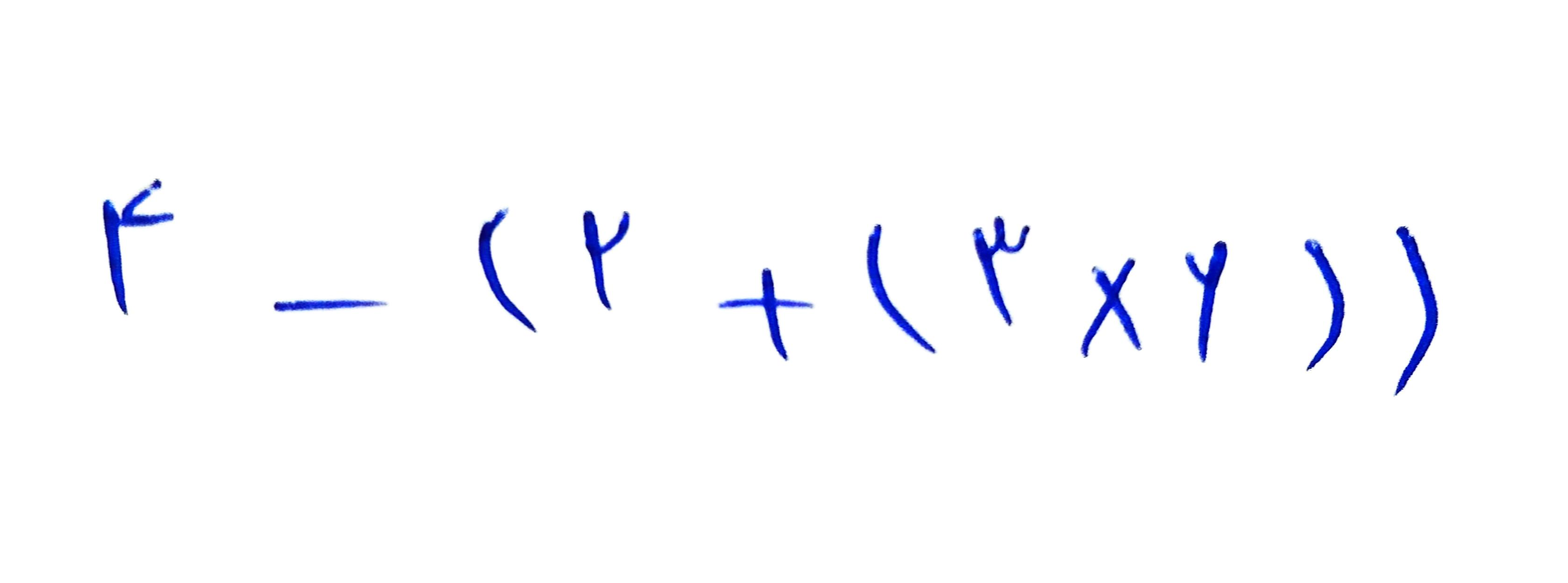character: (103, 177, 175, 317), (865, 222, 937, 358), (719, 266, 816, 362), (1395, 221, 1442, 397), (476, 205, 537, 331), (973, 214, 1031, 329), (1082, 257, 1146, 359), (1304, 238, 1346, 370), (1186, 240, 1229, 365), (585, 210, 629, 312), (270, 296, 389, 313)
